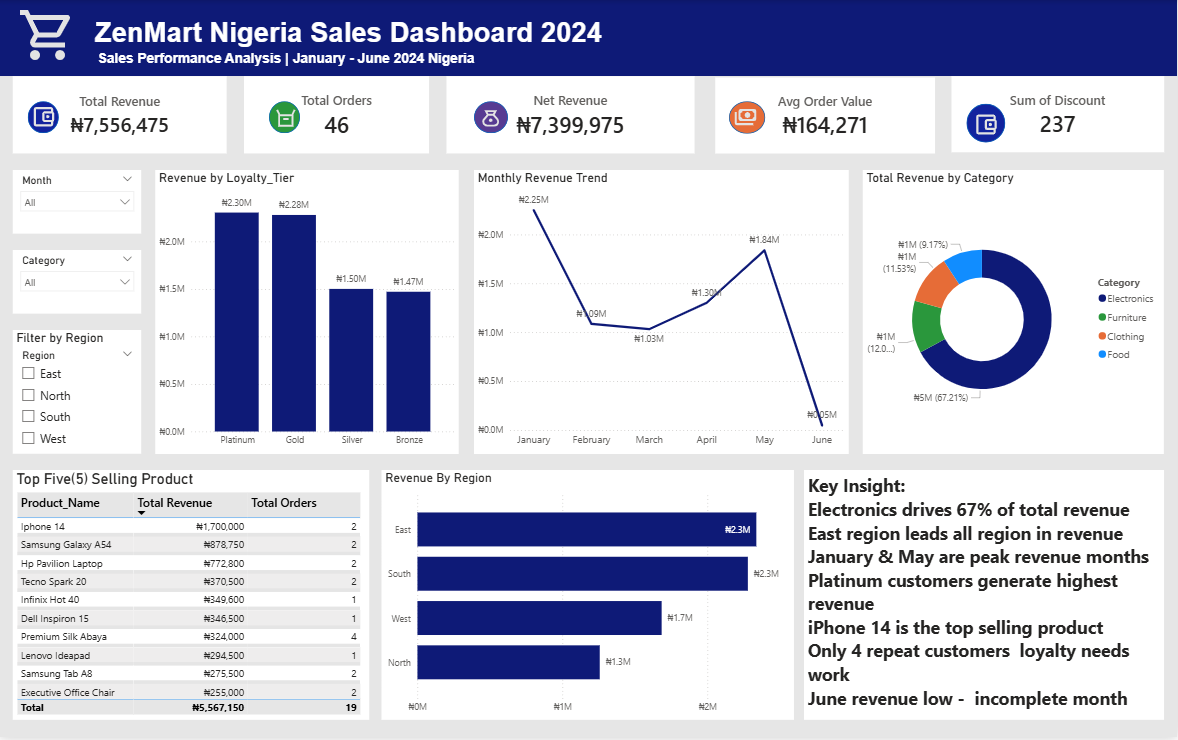

This screenshot's page, from the dashboard's own definition file:
{"tool":"powerbi","page":{"name":"Page 1","canvas":[1600,1000],"ordinal":0},"visuals":[{"type":"textbox","box":[0,0,1600.3,103.5],"z":0},{"type":"cardVisual","title":"Total Revenue","fields":{"Data":["Orders.Total Revenue"]},"box":[19,103.2,290.5,104.5],"z":1000},{"type":"cardVisual","title":"Total Orders","fields":{"Data":["Orders.Total Orders"]},"box":[332.6,103.2,251.2,104.5],"z":2000},{"type":"cardVisual","title":"Avg Order Value","fields":{"Data":["Orders.Avg Order Value"]},"box":[972.4,105.2,298.7,103.5],"z":3000},{"type":"clusteredBarChart","title":" Revenue By Region","fields":{"Category":["Orders.Region"],"Y":["Orders.Total Revenue"]},"box":[519.3,638.1,560,339.4],"z":4000},{"type":"slicer","title":"Filter by Region","fields":{"Values":["Orders.Region"]},"box":[18.7,448,174.8,168],"z":5000},{"type":"lineChart","title":"Monthly Revenue Trend","fields":{"Y":["Orders.Total Revenue"],"Category":["Orders.Order_Date.Variation.Date Hierarchy.Month"]},"box":[644.9,230.8,509.1,385.2],"z":6000},{"type":"donutChart","fields":{"Category":["Orders.Category"],"Y":["Orders.Total Revenue"]},"box":[1172.7,230.8,409,385.2],"z":7000},{"type":"clusteredColumnChart","title":" Revenue by Loyalty_Tier","fields":{"Category":["Customers.Loyalty_Tier"],"Y":["Orders.Total Revenue"]},"box":[212.1,230.8,412.4,385.2],"z":8000},{"type":"cardVisual","title":"Net Revenue","fields":{"Data":["Orders.Net Revenue"]},"box":[606.9,103.2,336.7,104.5],"z":9000},{"type":"tableEx","title":"Top Five(5) Selling Product","fields":{"Values":["Orders.Product_Name","Orders.Total Revenue","Orders.Total Orders"]},"box":[18.7,638.1,483.7,339.4],"z":10000},{"type":"slicer","title":"Filter by Month","fields":{"Values":["Orders.Order_Date.Variation.Date Hierarchy.Month"]},"box":[18.7,230.8,174.8,86.6],"z":11000},{"type":"slicer","title":"Filter by Category","fields":{"Values":["Orders.Category"]},"box":[18.7,339.4,174.8,86.6],"z":12000},{"type":"textbox","title":"key Insights","box":[1092.9,638.1,488.8,339.4],"z":13000},{"type":"image","box":[19,6.8,95,81.5],"z":14000},{"type":"shape","box":[39.4,137.1,42.1,43.4],"z":15000},{"type":"shape","box":[991.1,137.5,49.2,44.1],"z":16000},{"type":"shape","box":[644.9,137.1,46.2,43.4],"z":17000},{"type":"shape","box":[366.6,137.1,42.1,43.4],"z":18000},{"type":"image","box":[991.1,142.6,44.8,32.6],"z":19000},{"type":"image","box":[33.9,141.2,52.9,35.3],"z":20000},{"type":"image","box":[367.9,145.3,42.1,31.2],"z":21000},{"type":"image","box":[650.3,145.3,35.3,29.9],"z":22000},{"type":"cardVisual","title":"Avg Order Value","fields":{"Data":["Sum(Orders.Discount)"]},"box":[1293.2,103.5,288.5,103.5],"z":22001},{"type":"shape","box":[1313.5,140.9,52.6,52.6],"z":22002},{"type":"image","box":[1313.5,151,52.6,35.6],"z":22003}]}

Visuals, with their boxes in screenshot pixels (x1, y1, x2, y2), scaled from the page's 1600x1000 canvas onto the 1178x740 screenshot:
textbox: (0,0,1177,77)
"Total Revenue" cardVisual: (14,76,228,154)
"Total Orders" cardVisual: (245,76,430,154)
"Avg Order Value" cardVisual: (716,78,936,154)
" Revenue By Region" clusteredBarChart: (382,472,795,723)
"Filter by Region" slicer: (14,332,142,456)
"Monthly Revenue Trend" lineChart: (475,171,850,456)
donutChart - Orders.Category x Orders.Total Revenue: (863,171,1165,456)
" Revenue by Loyalty_Tier" clusteredColumnChart: (156,171,460,456)
"Net Revenue" cardVisual: (447,76,695,154)
"Top Five(5) Selling Product" tableEx: (14,472,370,723)
"Filter by Month" slicer: (14,171,142,235)
"Filter by Category" slicer: (14,251,142,315)
"key Insights" textbox: (805,472,1165,723)
image: (14,5,84,65)
shape: (29,101,60,134)
shape: (730,102,766,134)
shape: (475,101,509,134)
shape: (270,101,301,134)
image: (730,106,763,130)
image: (25,104,64,131)
image: (271,108,302,131)
image: (479,108,505,130)
"Avg Order Value" cardVisual: (952,77,1165,153)
shape: (967,104,1006,143)
image: (967,112,1006,138)
